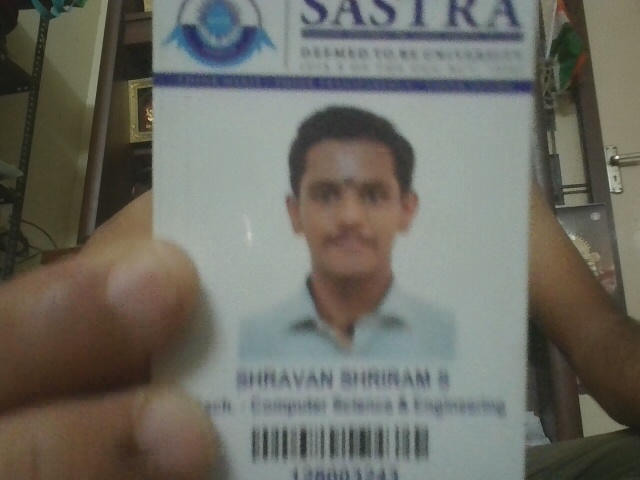fake: (282, 143, 415, 276)
